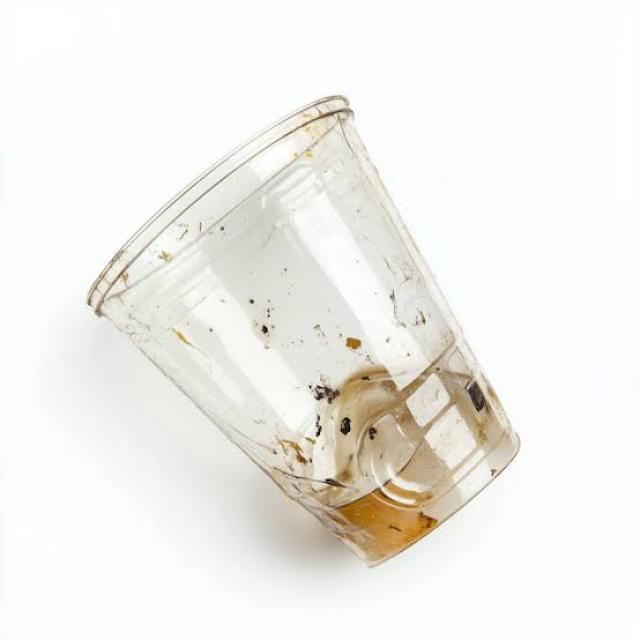plastic: (75, 81, 549, 567)
